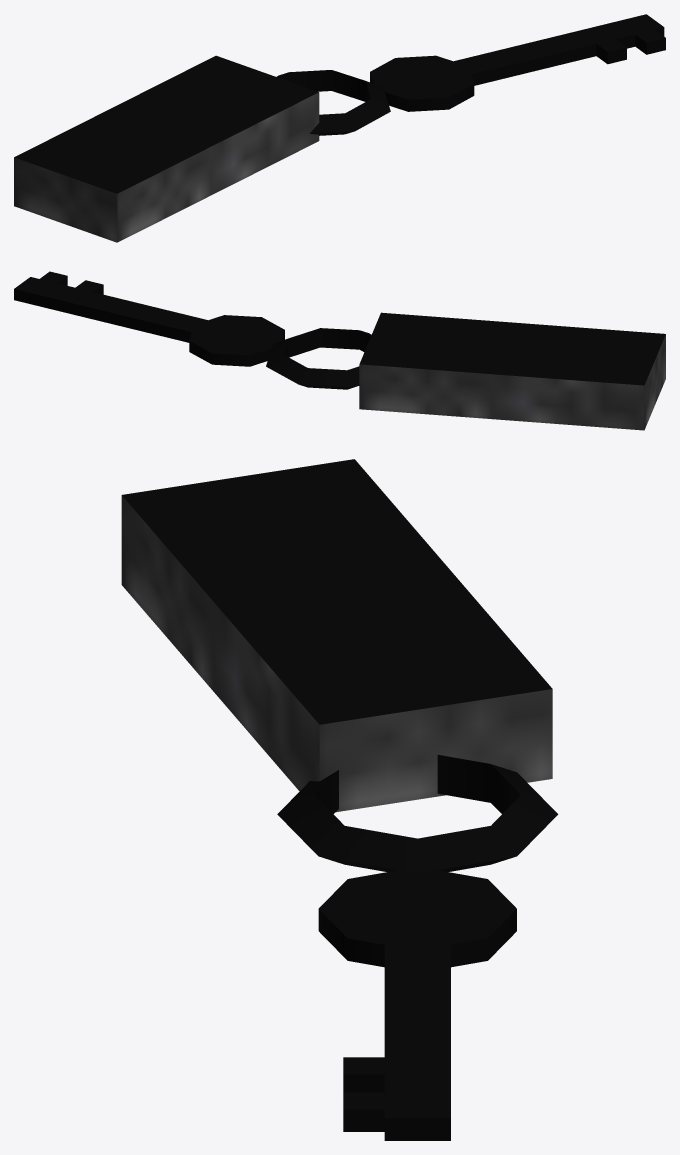
The model's file is SM_key_station.fbx.
3 views of the same model, one above another, from view 1: azimuth 30°, elevation 25°; view 2: azimuth 150°, elevation 25°; view 3: azimuth 270°, elevation 25° (orthographic). The views are drawn at different scales.
Parts seen in each view (by area): view 1: key_station; view 2: key_station; view 3: key_station.
Boxes of the visible parts, x1,y1,x2,y2 form: key_station: (14, 14, 665, 242); key_station: (14, 271, 665, 430); key_station: (121, 459, 558, 1140).
Bounding box in the file's own units: 0.1694 × 0.012 × 0.0528.
